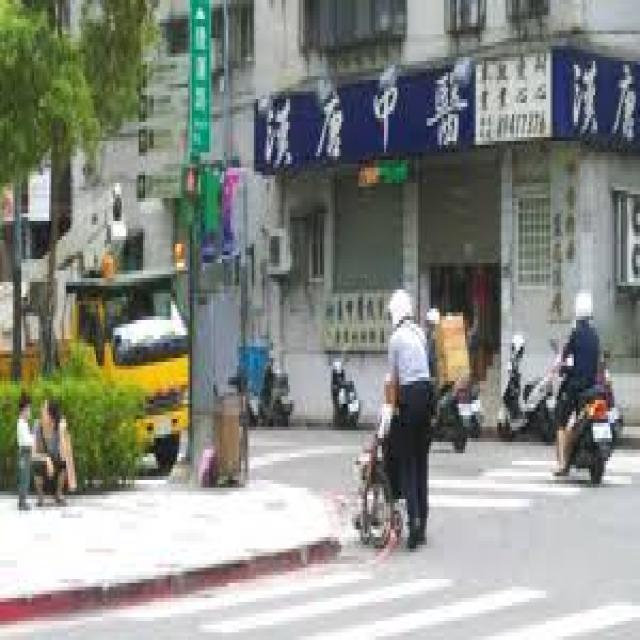wheelchairs: (354, 385, 433, 541)
